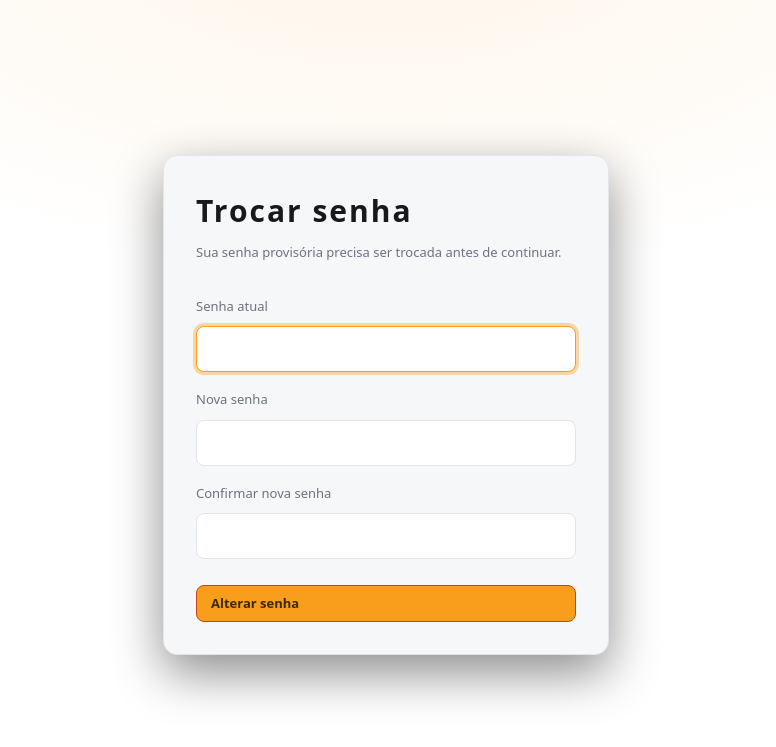
ChangePasswordPage › surfaces the API's PT-BR error
Type "errada" into the password field labelled "Senha atual" at (386, 349), box [196,326,576,372]
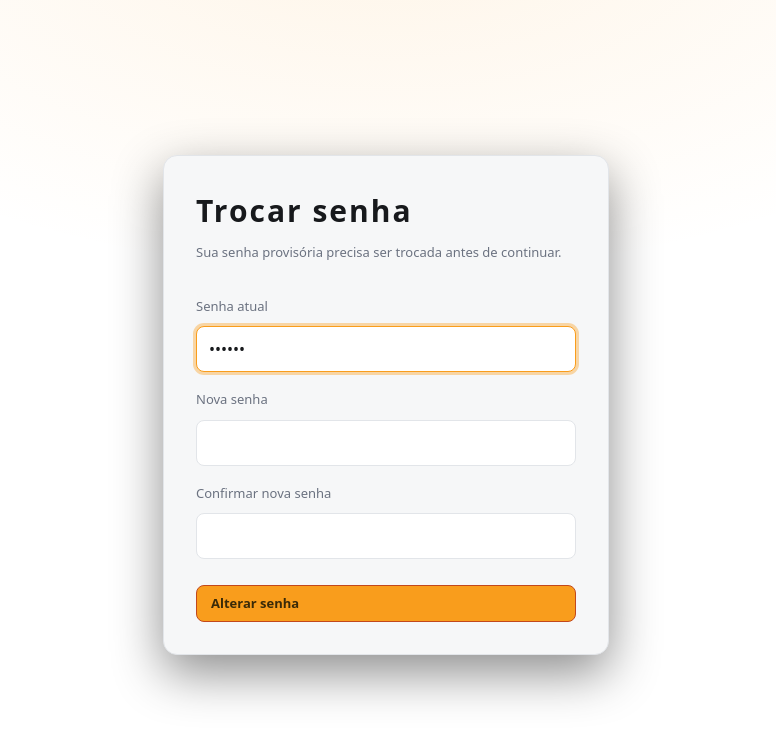
Type "uma-senha-longa" into the password field labelled "Nova senha" at (386, 442), box [196,420,576,466]
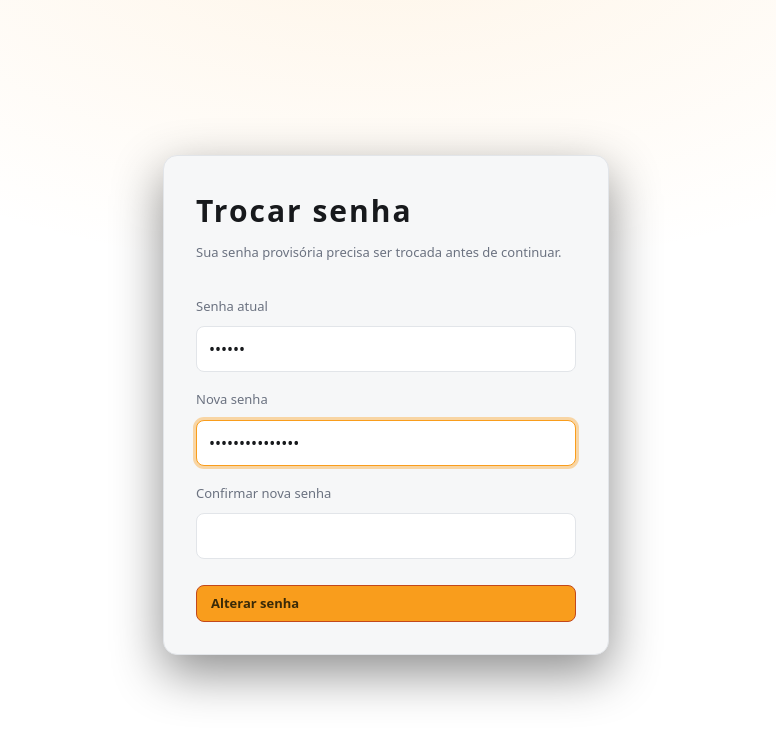
Type "uma-senha-longa" into the password field labelled "Confirmar nova senha" at (386, 536), box [196,513,576,559]
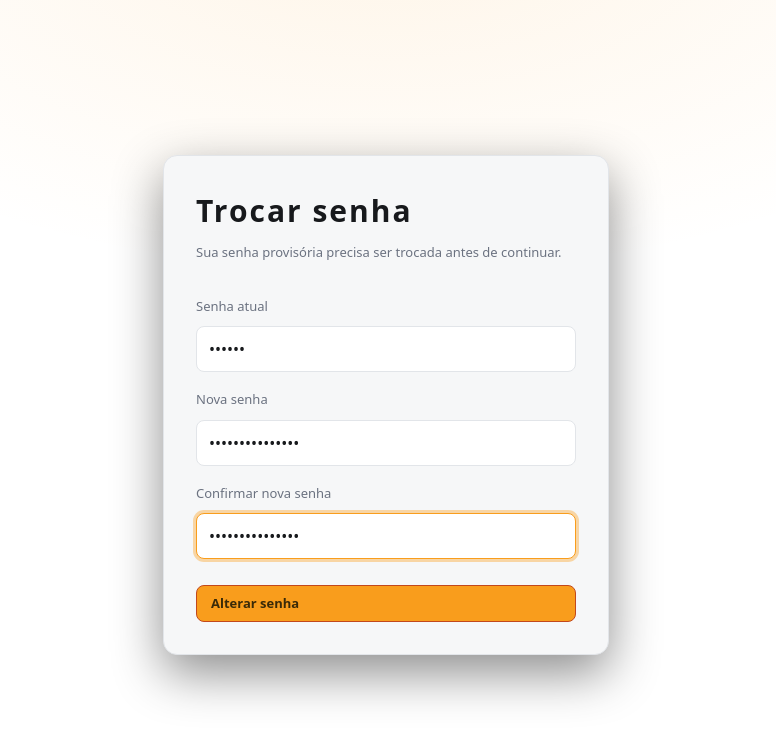
Click the button "Alterar senha" at (255, 603), box [196,585,576,622]
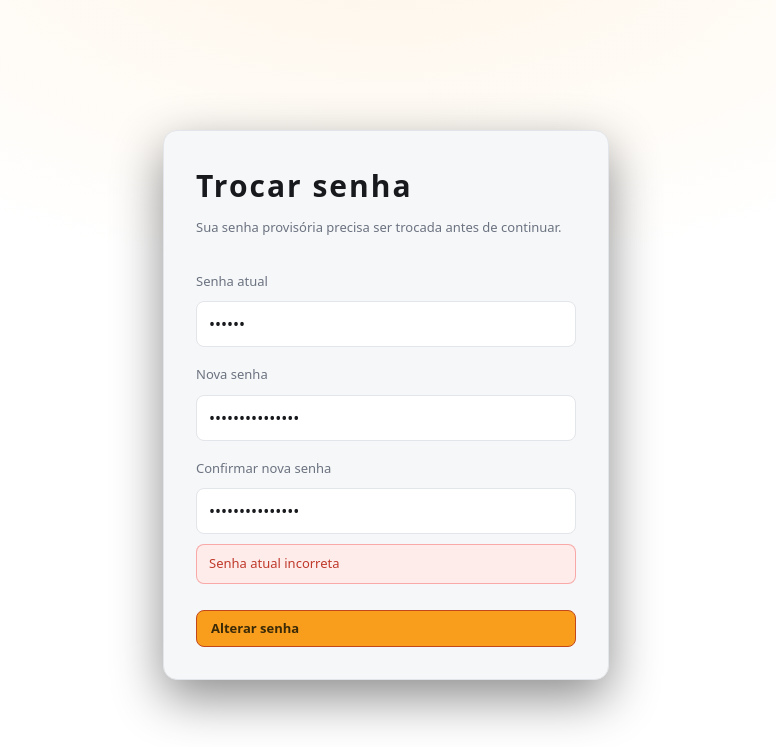
Result: the text "Senha atual incorreta" is shown at [196,544,576,584]
